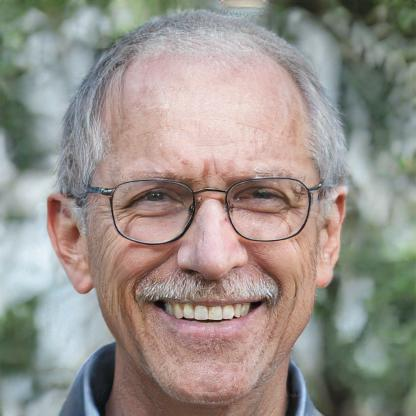glasses: (90, 172, 321, 248)
